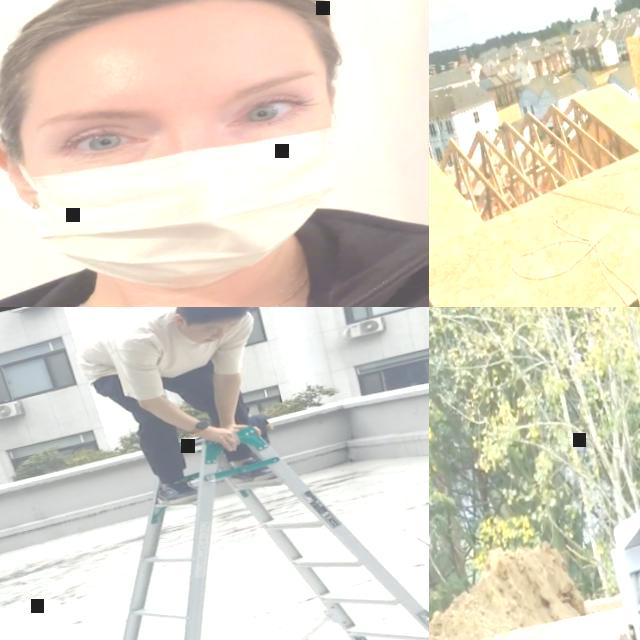machinery: (429, 479, 640, 640)
mask: (7, 66, 373, 307)
no_helmet: (0, 0, 332, 98), (174, 307, 257, 329)
no_mask: (180, 321, 220, 348)
no_vest: (0, 204, 429, 307), (75, 307, 230, 391)
person: (0, 0, 429, 307), (68, 307, 295, 518)
